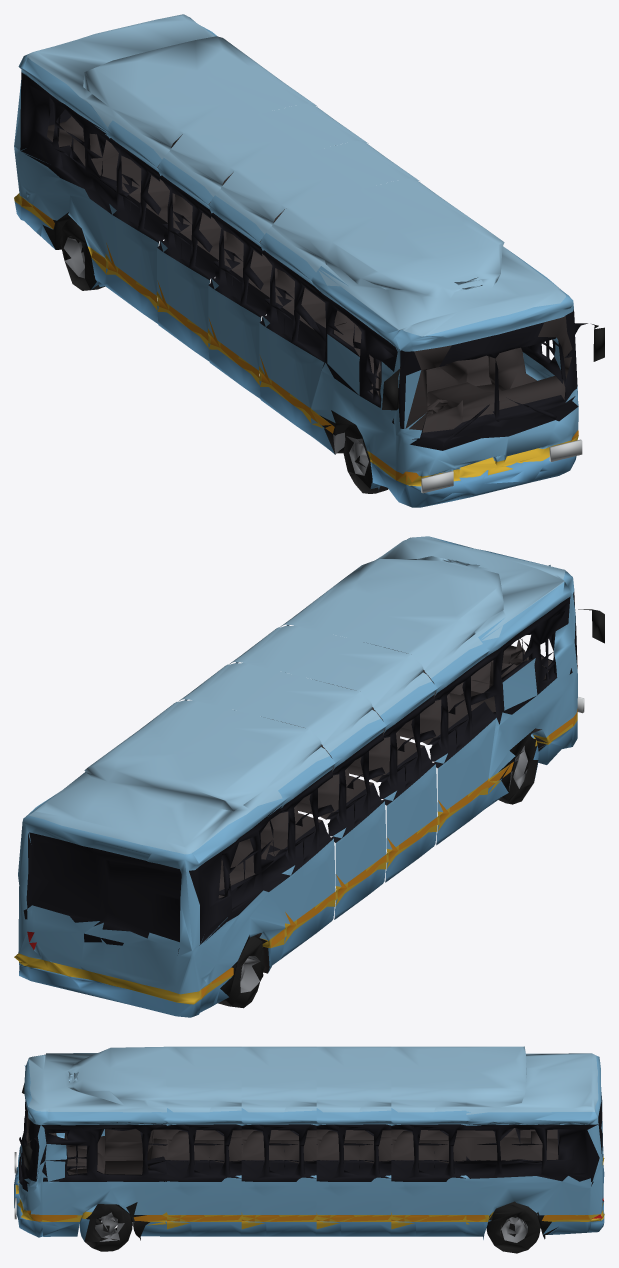
The model's file is mtc_ordinary.glb.
3 views of the same model, one above another, from view 1: azimuth 30°, elevation 25°; view 2: azimuth 150°, elevation 25°; view 3: azimuth 270°, elevation 25° (orthographic). The views are drawn at different scales.
Parts seen in each view (by area): view 1: geometry_0; view 2: geometry_0; view 3: geometry_0.
Boxes of the visible parts, left/top/right/bottom form: geometry_0: left=14, top=14, right=604, bottom=507; geometry_0: left=14, top=536, right=604, bottom=1017; geometry_0: left=14, top=1046, right=604, bottom=1253.
Size of the model in its own units: 3.22 by 2.95 by 10.11.
